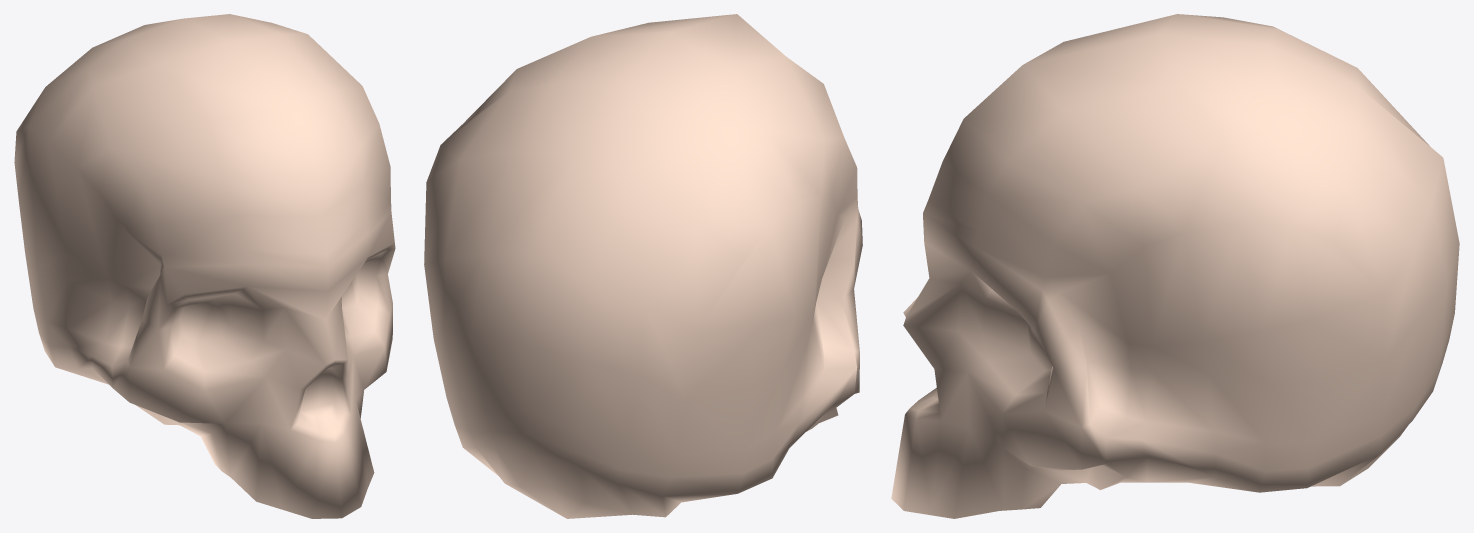
The model's file is Skull.fbx.
3 renders of one model, left to right at view 1: azimuth 30°, elevation 25°; view 2: azimuth 150°, elevation 25°; view 3: azimuth 270°, elevation 25°, orthographic. The views are drawn at different scales.
Parts seen in each view (by area): view 1: Skull; view 2: Skull; view 3: Skull.
Boxes of the visible parts, x1=… form: Skull: x1=14, y1=14, x2=395, y2=518; Skull: x1=424, y1=14, x2=862, y2=518; Skull: x1=891, y1=14, x2=1459, y2=518.
Bounding box in the file's own units: 30.45 × 37.86 × 41.97.
